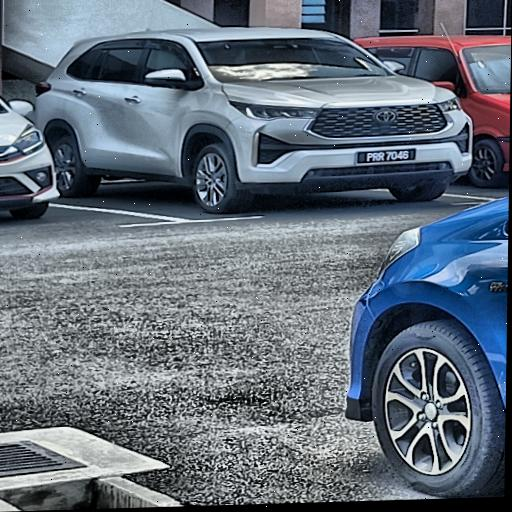license_plate: (360, 147, 419, 161)
